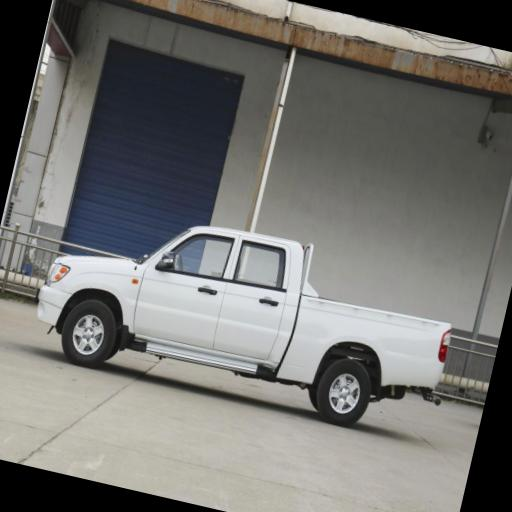pickup: (40, 227, 450, 425)
